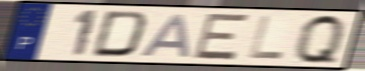1: (71, 8, 100, 58)
A: (138, 12, 193, 59)
D: (89, 9, 151, 59)
E: (190, 12, 253, 62)
L: (246, 15, 287, 61)
Q: (294, 12, 346, 67)
